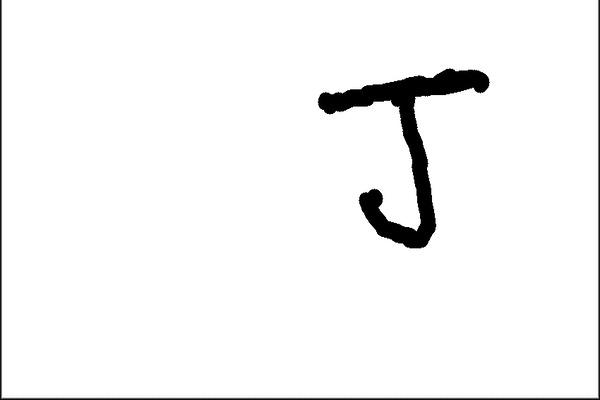J: (315, 65, 495, 253)
